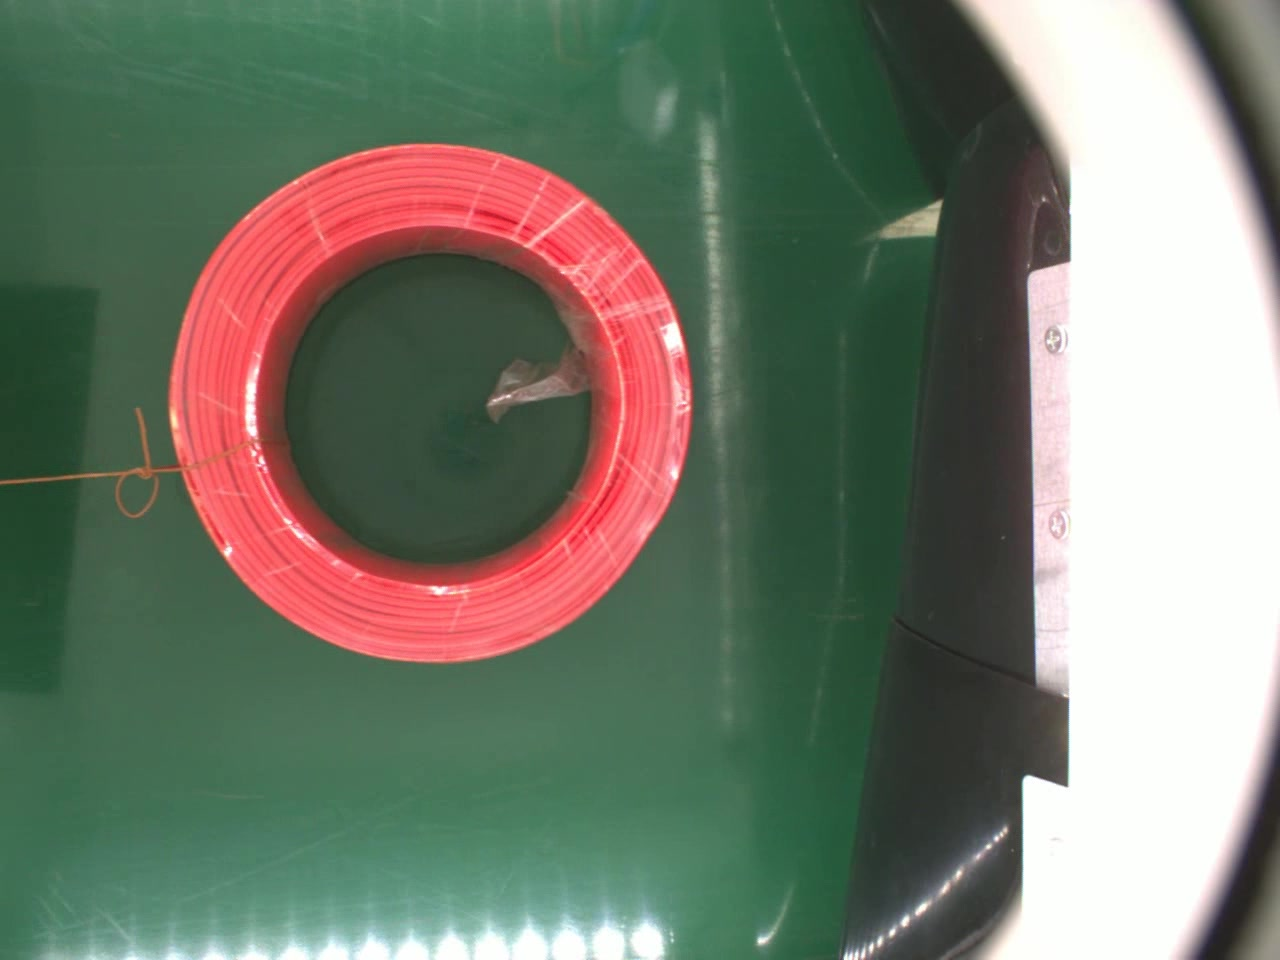red: (164, 140, 696, 667)
